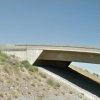Bridge: (6, 37, 99, 69)
